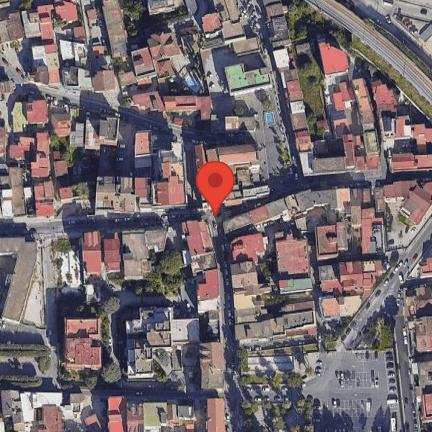area_open: (236, 303, 404, 432), (179, 60, 294, 182), (358, 6, 432, 61), (39, 240, 79, 333), (88, 286, 189, 309), (1, 345, 56, 375), (174, 315, 193, 385), (111, 320, 125, 371)
built: (224, 183, 431, 348), (0, 80, 185, 222), (183, 0, 313, 154), (301, 43, 429, 177), (3, 4, 183, 93), (0, 392, 226, 432), (183, 225, 224, 389), (200, 138, 269, 207), (82, 227, 164, 284), (405, 247, 430, 425), (0, 234, 39, 331), (128, 308, 174, 377), (131, 92, 212, 122), (61, 317, 102, 371)
vegetation_high: (131, 4, 192, 37), (154, 250, 185, 279)
vegetation_low: (294, 9, 432, 135)
